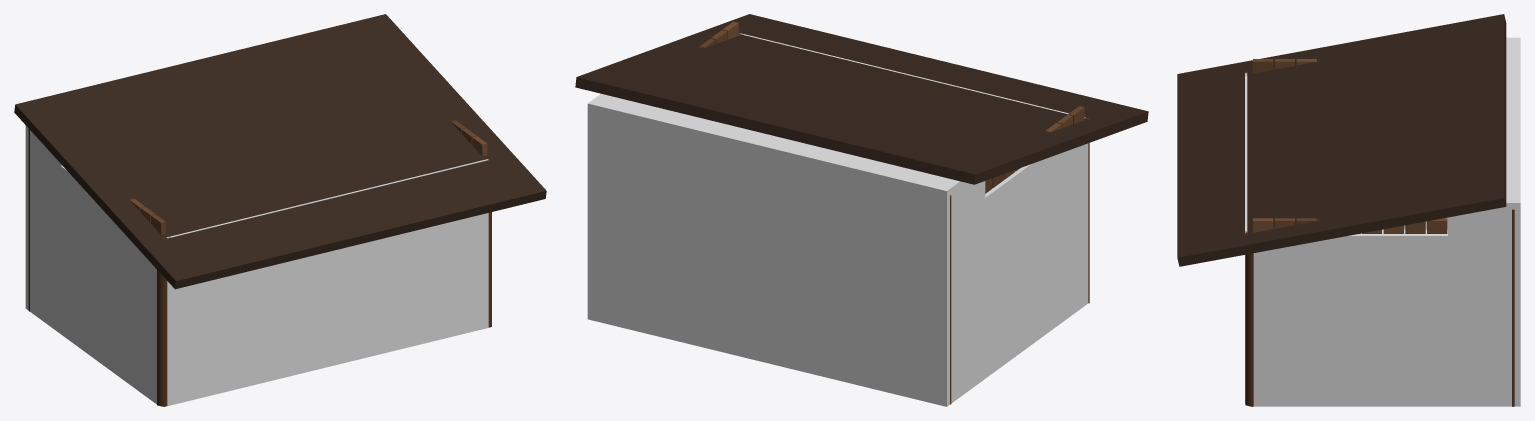
File: cobertizo_cerrado.glb
3 renders of one model, left to right at view 1: azimuth 30°, elevation 25°; view 2: azimuth 150°, elevation 25°; view 3: azimuth 270°, elevation 25°, orthographic. The views are drawn at different scales.
Visible parts, largest first — view 1: cobertizo_cerrado_Malla, COL_3, COL_1, COL_0; view 2: COL_0, cobertizo_cerrado_Malla, COL_1, COL_3; view 3: cobertizo_cerrado_Malla, COL_2, COL_0, COL_3.
Part boxes in pixels (box(x1,y1,x2,y2)): cobertizo_cerrado_Malla: box(14, 14, 546, 406); COL_3: box(166, 159, 488, 406); COL_1: box(61, 166, 156, 404); COL_0: box(25, 125, 62, 334); COL_0: box(587, 93, 985, 406); cobertizo_cerrado_Malla: box(575, 14, 1148, 404); COL_1: box(951, 143, 1088, 378); COL_3: box(739, 33, 1085, 117); cobertizo_cerrado_Malla: box(1177, 14, 1514, 406); COL_2: box(1253, 229, 1511, 406); COL_0: box(1448, 37, 1520, 406); COL_3: box(1245, 73, 1247, 403).
Bounding box in the file's own units: 6 × 3.32 × 4.73.
